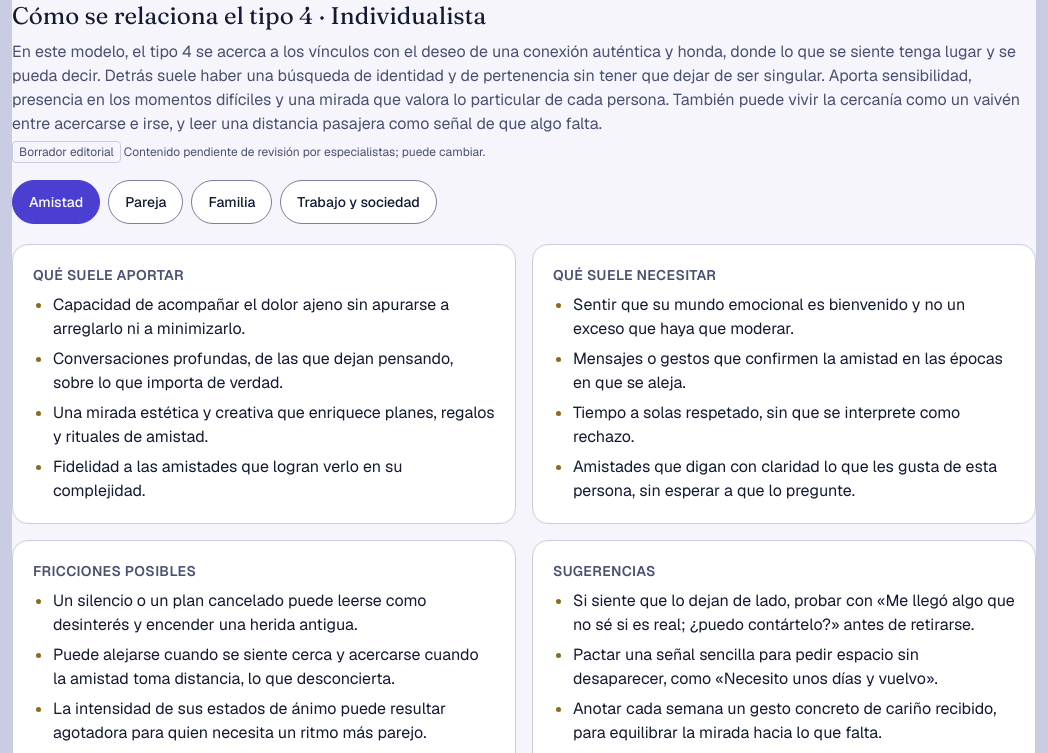
Test: RelationshipGuide › switches to Trabajo y sociedad and shows that context's lists only
The width and height of the screenshot is (1048, 753).
Click the button "Trabajo y sociedad": (358, 202) [280,180,437,224]
(page scrolled)
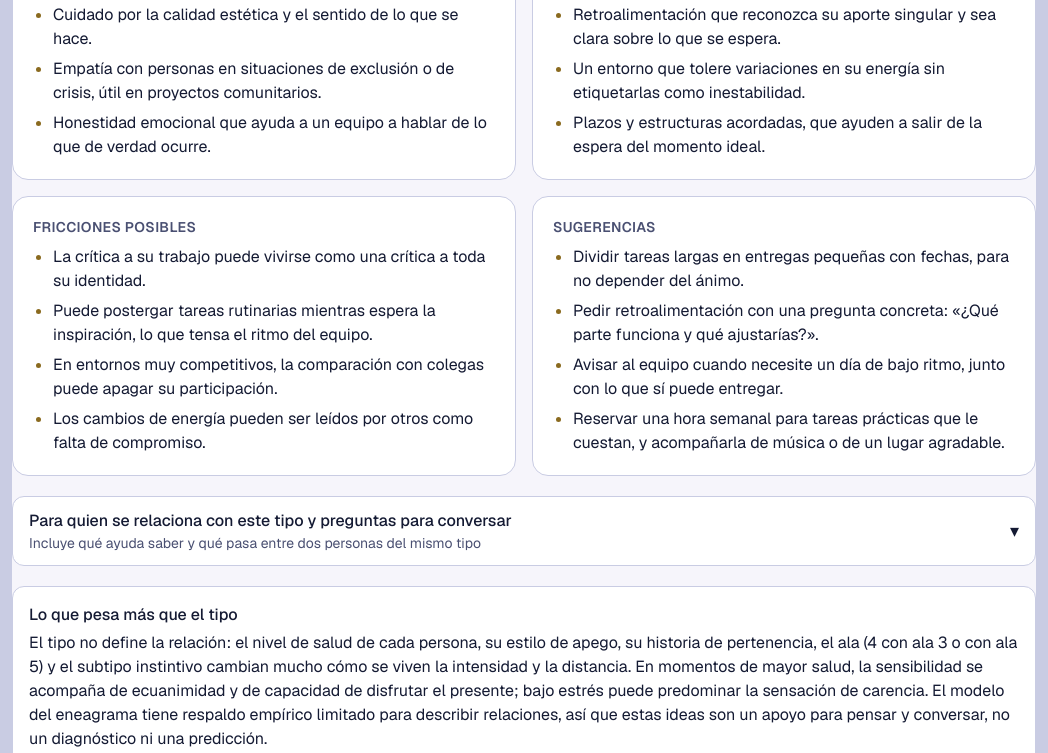
Check: the list item "Cuidado por la calidad estética y el sentido de lo que se hace." is shown, box [53,3,495,51]
Check: the list item "Empatía con personas en situaciones de exclusión o de crisis, útil en proyectos comunitarios." is shown, box [53,58,454,103]
Check: the list item "Honestidad emocional que ayuda a un equipo a hablar de lo que de verdad ocurre." is shown, box [53,111,495,159]
